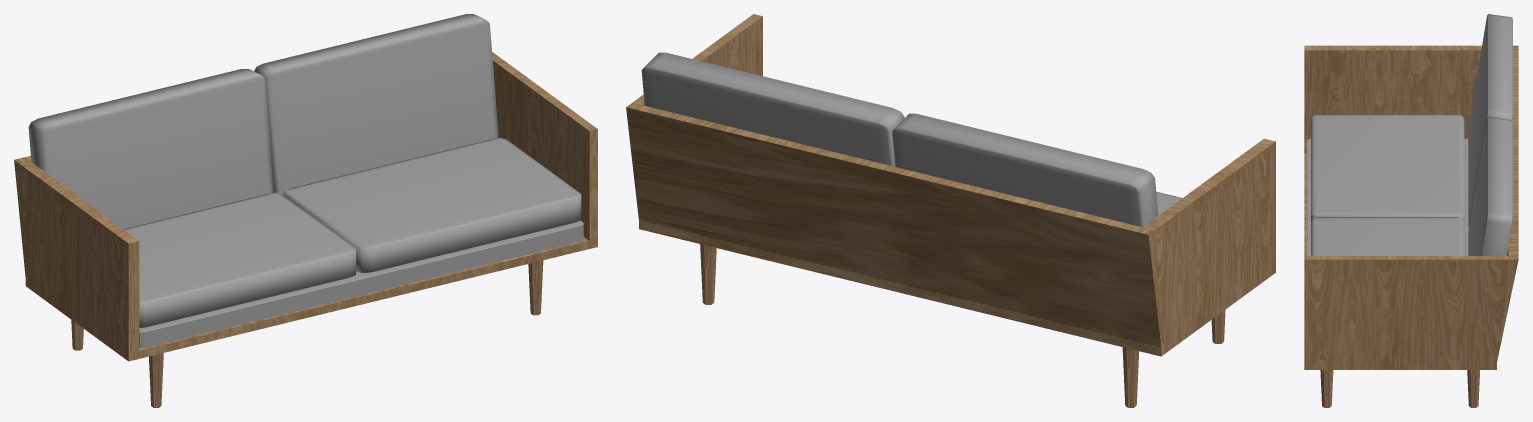
File: Sofa.glb
3 views of the same model, side by side, from view 1: azimuth 30°, elevation 25°; view 2: azimuth 150°, elevation 25°; view 3: azimuth 270°, elevation 25° (orthographic). The views are drawn at different scales.
Visible parts, largest first — view 1: Cube.015, Cube.010, Cube.014, Cube.013, Cube.011, Cube.012, Cylinder.002, Cylinder; view 2: Cube.010, Cube.014, Cube.015, Cylinder.003, Cylinder.001; view 3: Cube.010, Cube.011, Cube.013, Cube.015, Cube.014, Cube.012, Cylinder.002, Cylinder.003.
Part boxes in pixels (<box>): Cube.015: <box>254,14,498,194</box>; Cube.010: <box>14,52,597,361</box>; Cube.014: <box>28,69,273,229</box>; Cube.013: <box>283,138,581,273</box>; Cube.011: <box>123,193,356,327</box>; Cube.012: <box>139,220,583,348</box>; Cylinder.002: <box>528,260,543,315</box>; Cylinder: <box>149,353,163,407</box>; Cube.010: <box>626,14,1275,356</box>; Cube.014: <box>892,113,1158,227</box>; Cube.015: <box>641,52,904,166</box>; Cylinder.003: <box>700,244,716,304</box>; Cylinder.001: <box>1122,347,1139,407</box>; Cube.010: <box>1304,45,1518,369</box>; Cube.011: <box>1311,114,1464,220</box>; Cube.013: <box>1311,217,1464,255</box>; Cube.015: <box>1468,116,1512,255</box>; Cube.014: <box>1468,14,1512,227</box>; Cube.012: <box>1306,138,1468,255</box>; Cylinder.002: <box>1320,370,1333,407</box>; Cylinder.003: <box>1467,370,1479,407</box>.
Bounding box in the file's own units: 2.54 × 1.15 × 1.07.
Materials: 2 (1 with a texture image).
